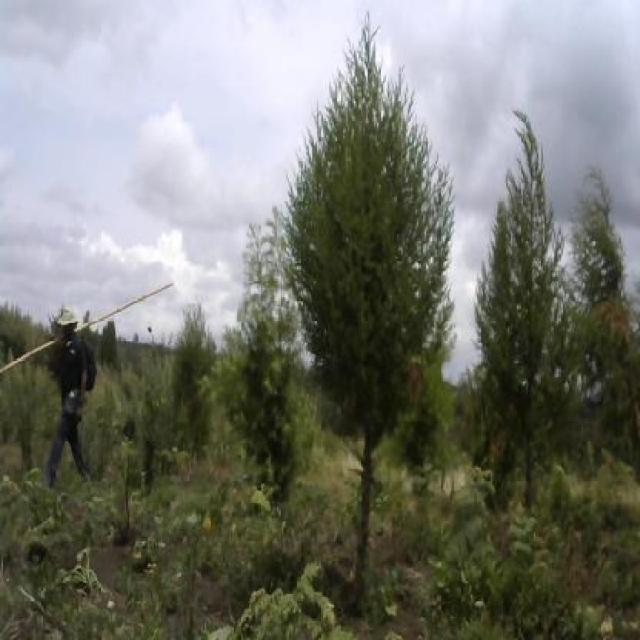tree trunk: (317, 92, 394, 606), (490, 174, 536, 526), (244, 322, 296, 516)
